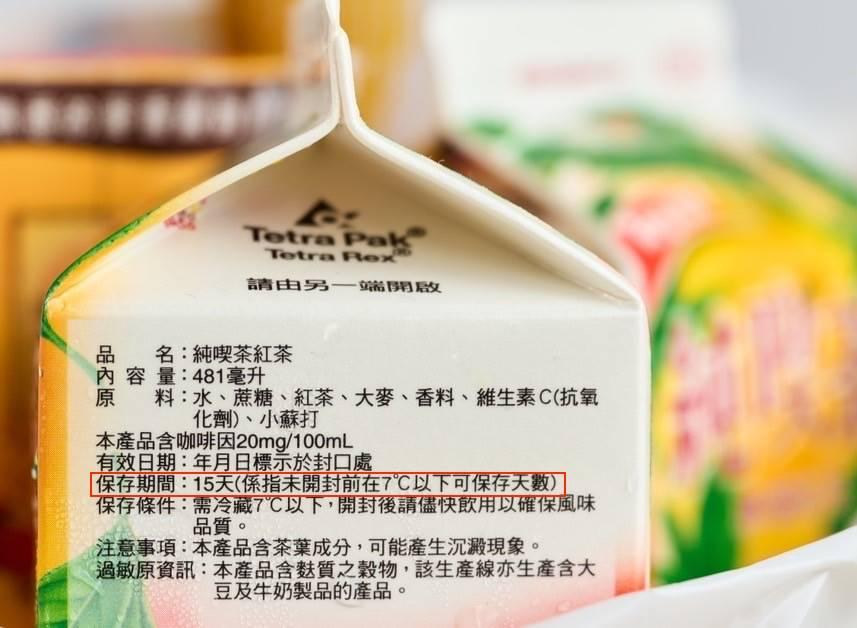cardboard: (38, 85, 649, 627)
